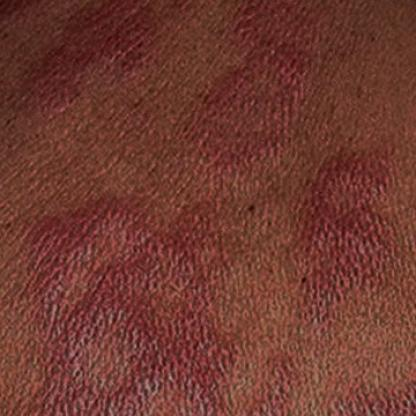Leprosy: (10, 195, 300, 415), (188, 0, 342, 178), (289, 141, 414, 317)
